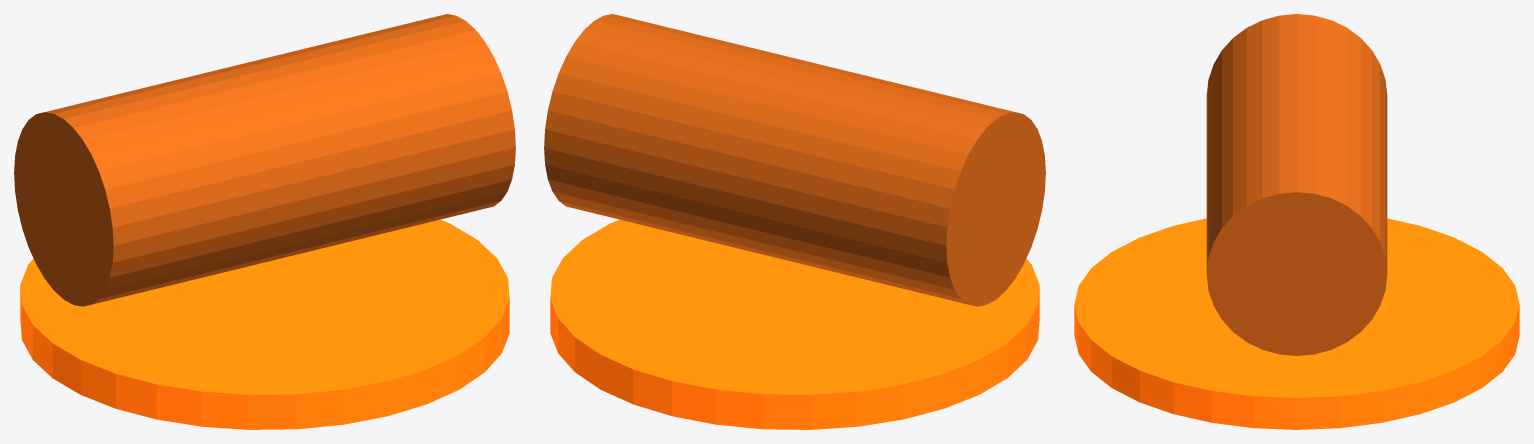
File: fitness_foam_roller.dae
The picture shows the model from 3 angles, left to right: view 1: azimuth 30°, elevation 25°; view 2: azimuth 150°, elevation 25°; view 3: azimuth 270°, elevation 25°; orthographic projection. The views are drawn at different scales.
Parts seen in each view (by area): view 1: 02_14_Popular_Fitness_Foam_Roller_part_01, 02_14_Popular_Fitness_Foam_Roller_ROOT_base; view 2: 02_14_Popular_Fitness_Foam_Roller_part_01, 02_14_Popular_Fitness_Foam_Roller_ROOT_base; view 3: 02_14_Popular_Fitness_Foam_Roller_ROOT_base, 02_14_Popular_Fitness_Foam_Roller_part_01.
Part boxes in pixels (x1=…): 02_14_Popular_Fitness_Foam_Roller_part_01: x1=14, y1=14, x2=515, y2=306; 02_14_Popular_Fitness_Foam_Roller_ROOT_base: x1=20, y1=219, x2=509, y2=429; 02_14_Popular_Fitness_Foam_Roller_part_01: x1=544, y1=14, x2=1045, y2=306; 02_14_Popular_Fitness_Foam_Roller_ROOT_base: x1=550, y1=219, x2=1039, y2=429; 02_14_Popular_Fitness_Foam_Roller_ROOT_base: x1=1074, y1=218, x2=1519, y2=429; 02_14_Popular_Fitness_Foam_Roller_part_01: x1=1206, y1=14, x2=1387, y2=355.
Bounding box in the file's own units: 0.76 × 0.4386 × 0.76.
